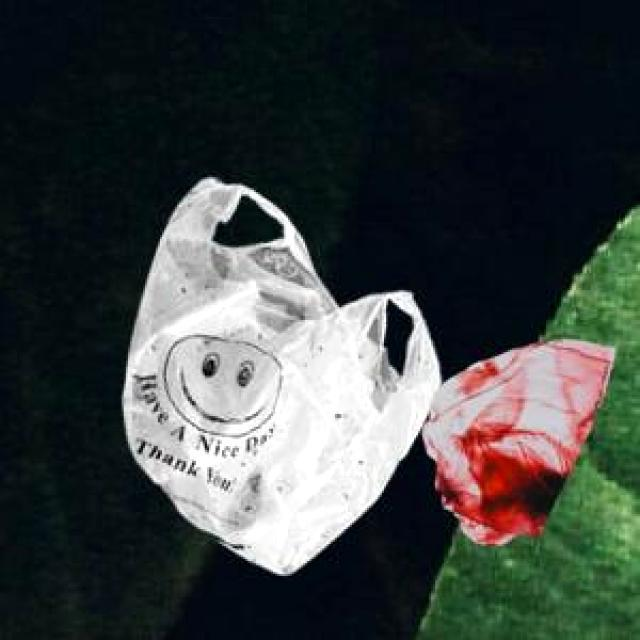Plastic_Bag: (120, 176, 438, 571), (420, 336, 610, 543)
